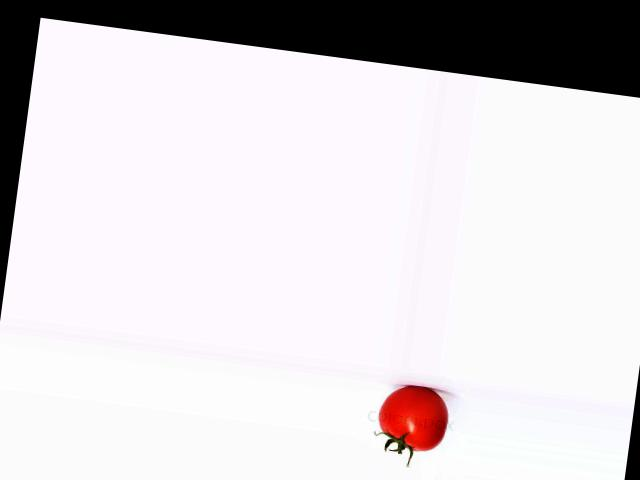tomato: (375, 382, 452, 454)
